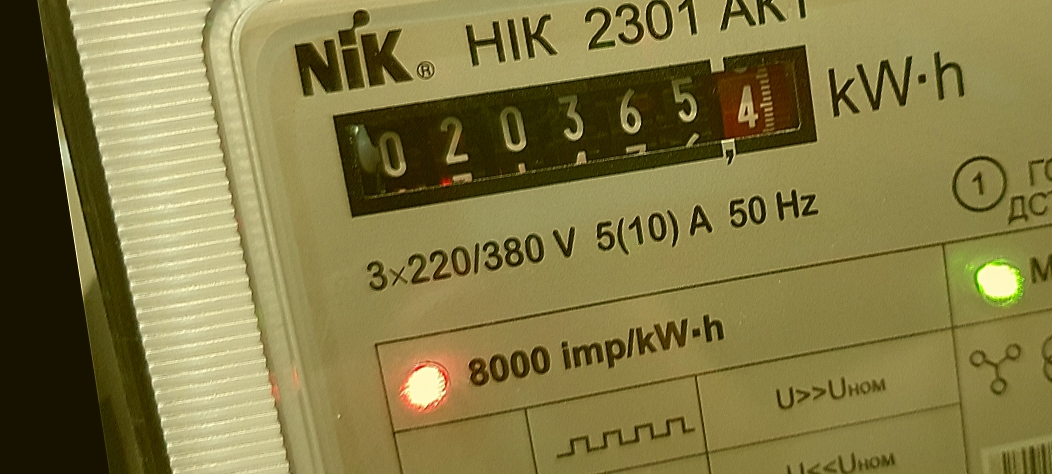0: (372, 123, 413, 182), (496, 101, 532, 155)
2: (435, 111, 472, 166)
3: (554, 91, 590, 144)
4: (731, 79, 761, 131)
5: (670, 74, 703, 124)
6: (613, 83, 646, 136)
screen: (317, 23, 839, 235)
